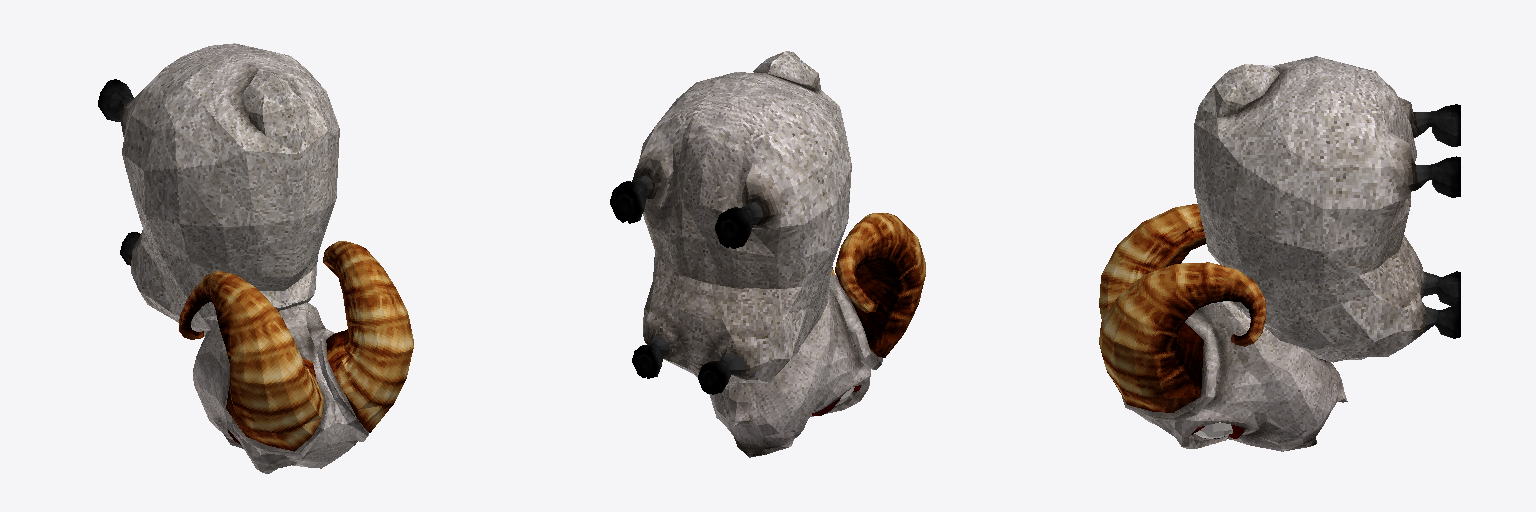
The picture shows the model from 3 angles: view 1: azimuth 30°, elevation 25°; view 2: azimuth 150°, elevation 25°; view 3: azimuth 270°, elevation 25°; orthographic projection.
Visible parts, largest first — view 1: ram; view 2: ram; view 3: ram.
Part boxes in pixels (x1,y1,x2,y2): ram: (98,43,413,473); ram: (610,51,925,457); ram: (1099,56,1460,451).
Size of the model in its own units: 0.6723 by 1.34 by 1.15.
1 materials, 1 textured.